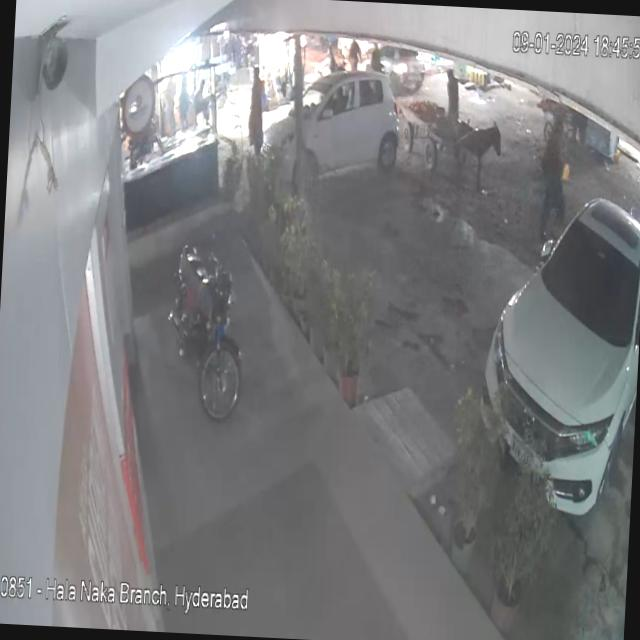Car: (473, 173, 640, 536), (259, 68, 421, 198)
